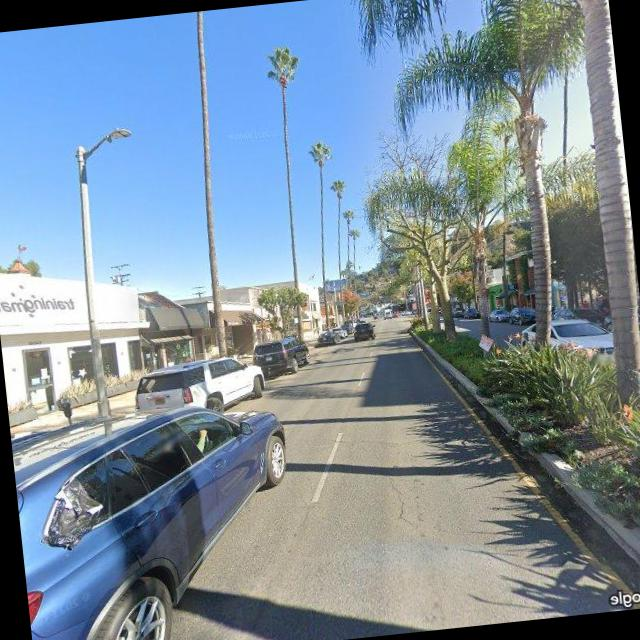crack: (386, 462, 418, 530)
